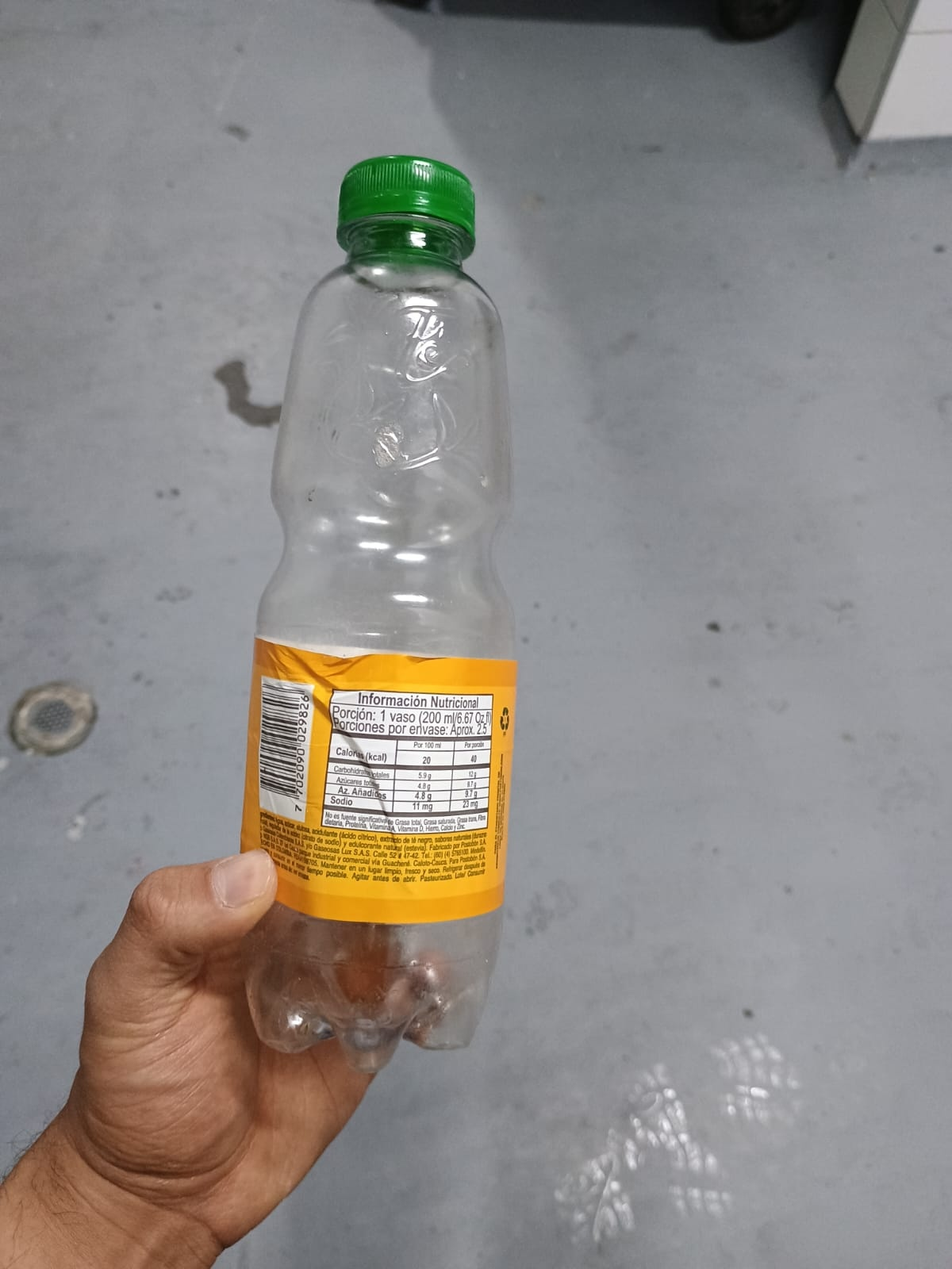Plastico: (243, 158, 519, 1065)
